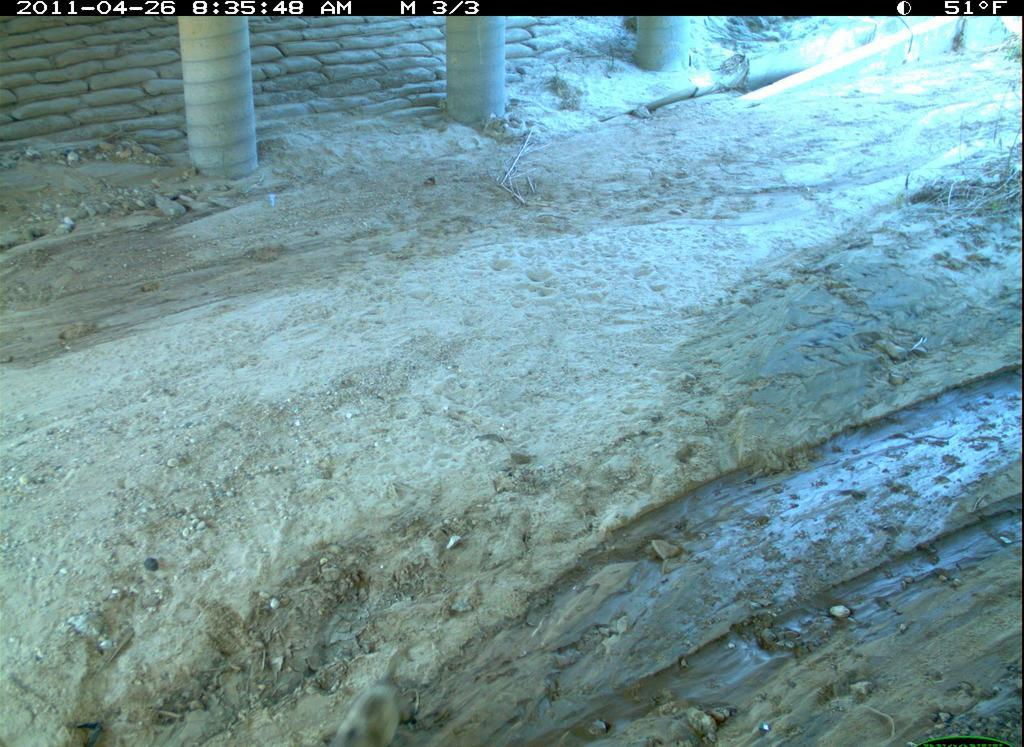opossum: (299, 635, 432, 747)
